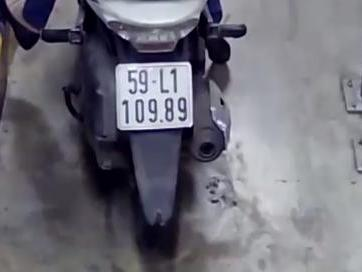num_plate: (114, 61, 195, 132)
